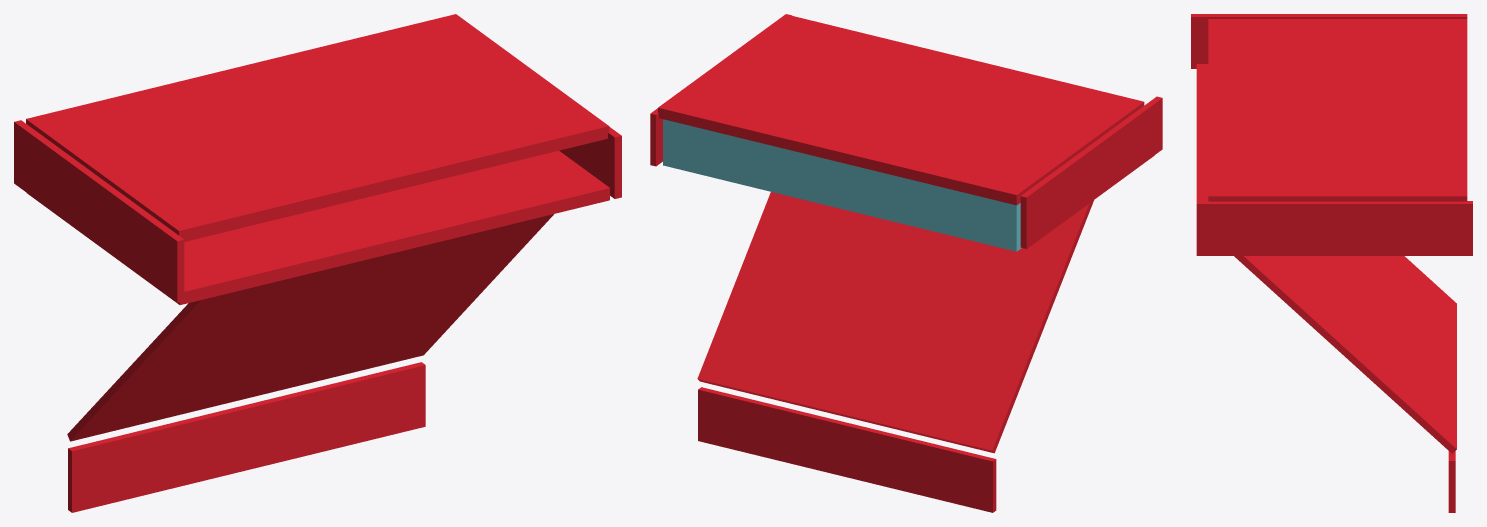
File: tinker.obj
3 renders of one model, left to right at view 1: azimuth 30°, elevation 25°; view 2: azimuth 150°, elevation 25°; view 3: azimuth 270°, elevation 25°, orthographic. The views are drawn at different scales.
Parts seen in each view (by area): view 1: group_0_15277357; view 2: group_0_15277357, group_0_7720667; view 3: group_0_15277357.
Boxes of the visible parts, bbox=[...] form: group_0_15277357: bbox=[14, 14, 621, 512]; group_0_15277357: bbox=[650, 14, 1162, 512]; group_0_7720667: bbox=[663, 119, 1021, 251]; group_0_15277357: bbox=[1191, 14, 1472, 512].
Bounding box in the file's own units: 76 × 64 × 49.
